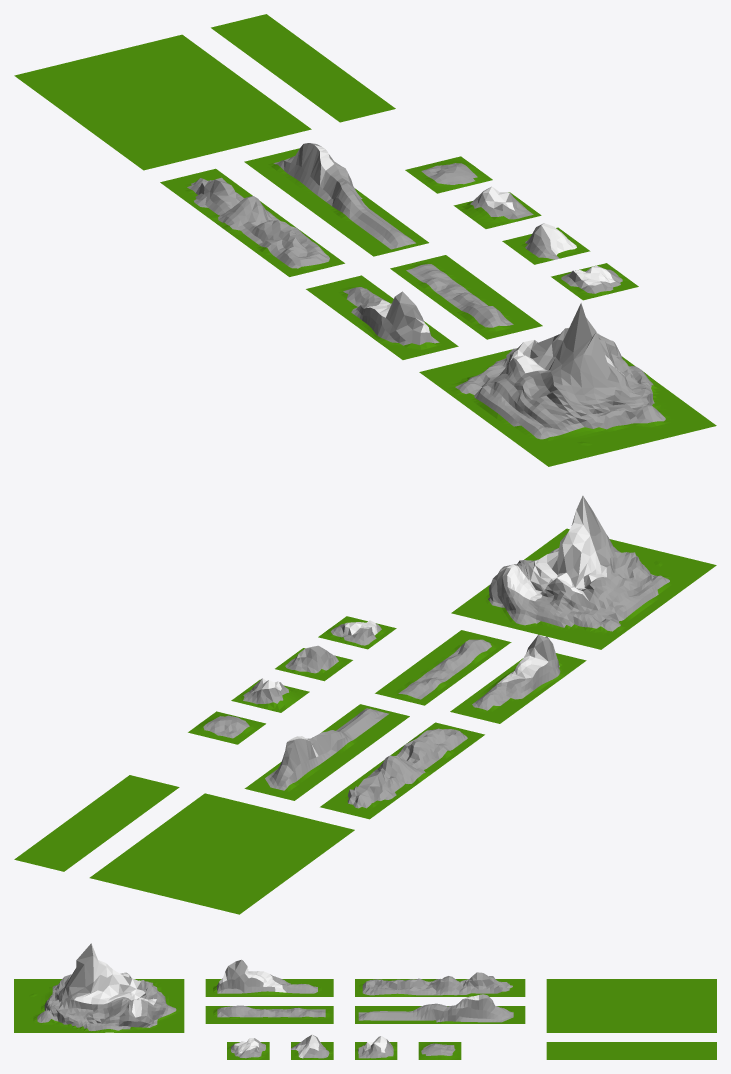
Rendered from Background.fbx.
The picture shows the model from 3 angles, top to bottom: view 1: azimuth 30°, elevation 25°; view 2: azimuth 150°, elevation 25°; view 3: azimuth 270°, elevation 25°; orthographic projection. The views are drawn at different scales.
Parts seen in each view (by area): view 1: 3x4_BigMountain_1, 3x4_Flat_1, 4_Mountain_2, 4_Mountain_1, 4_Flat_1, 3_Mountain1, 3_Hill_2, 1_Mountain_1, 1_Mountain_2, 1_Hill_1, 1_Mountain_3; view 2: 3x4_BigMountain_1, 3x4_Flat_1, 4_Mountain_2, 4_Mountain_1, 4_Flat_1, 3_Mountain1, 3_Hill_2, 1_Mountain_2, 1_Mountain_1, 1_Mountain_3, 1_Hill_1; view 3: 3x4_BigMountain_1, 3x4_Flat_1, 4_Mountain_2, 4_Mountain_1, 4_Flat_1, 3_Mountain1, 3_Hill_2, 1_Mountain_2, 1_Mountain_1, 1_Mountain_3, 1_Hill_1.
Boxes of the visible parts, left/top/right/bottom form: 3x4_BigMountain_1: left=419, top=303, right=716, bottom=466; 3x4_Flat_1: left=14, top=34, right=311, bottom=170; 4_Mountain_2: left=244, top=143, right=428, bottom=256; 4_Mountain_1: left=160, top=168, right=344, bottom=276; 4_Flat_1: left=211, top=14, right=395, bottom=122; 3_Mountain1: left=306, top=275, right=458, bottom=359; 3_Hill_2: left=390, top=255, right=542, bottom=339; 1_Mountain_1: left=453, top=186, right=541, bottom=228; 1_Mountain_2: left=502, top=223, right=590, bottom=264; 1_Hill_1: left=405, top=156, right=492, bottom=193; 1_Mountain_3: left=551, top=263, right=638, bottom=300; 3x4_BigMountain_1: left=451, top=495, right=716, bottom=649; 3x4_Flat_1: left=89, top=793, right=354, bottom=914; 4_Mountain_2: left=244, top=704, right=409, bottom=800; 4_Mountain_1: left=320, top=722, right=484, bottom=819; 4_Flat_1: left=14, top=775, right=179, bottom=871; 3_Mountain1: left=450, top=634, right=586, bottom=723; 3_Hill_2: left=375, top=630, right=511, bottom=705; 1_Mountain_2: left=275, top=645, right=352, bottom=681; 1_Mountain_1: left=231, top=678, right=309, bottom=712; 1_Mountain_3: left=318, top=616, right=396, bottom=649; 1_Hill_1: left=188, top=711, right=265, bottom=744; 3x4_BigMountain_1: left=14, top=943, right=184, bottom=1032; 3x4_Flat_1: left=546, top=979, right=716, bottom=1032; 4_Mountain_2: left=355, top=994, right=525, bottom=1023; 4_Mountain_1: left=355, top=972, right=525, bottom=996; 4_Flat_1: left=546, top=1042, right=716, bottom=1059; 3_Mountain1: left=205, top=959, right=333, bottom=996; 3_Hill_2: left=205, top=1005, right=333, bottom=1023; 1_Mountain_2: left=291, top=1034, right=333, bottom=1059; 1_Mountain_1: left=355, top=1036, right=397, bottom=1059; 1_Mountain_3: left=227, top=1038, right=269, bottom=1059; 1_Hill_1: left=418, top=1042, right=461, bottom=1059.
Bounding box in the file's own units: 901 × 340 × 3300.
